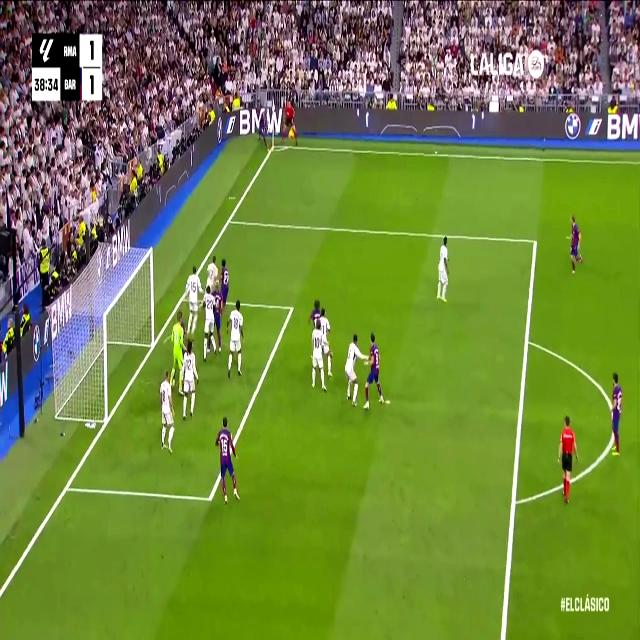bigarea_bottom_inner: (205, 484, 215, 512)
bigarea_top_outter: (225, 212, 233, 228)
corner: (268, 140, 278, 152)
smallarea_bottom_outter: (60, 473, 72, 501)
smallarea_top_inner: (286, 295, 298, 321)
smallarea_top_outter: (178, 289, 186, 307)
